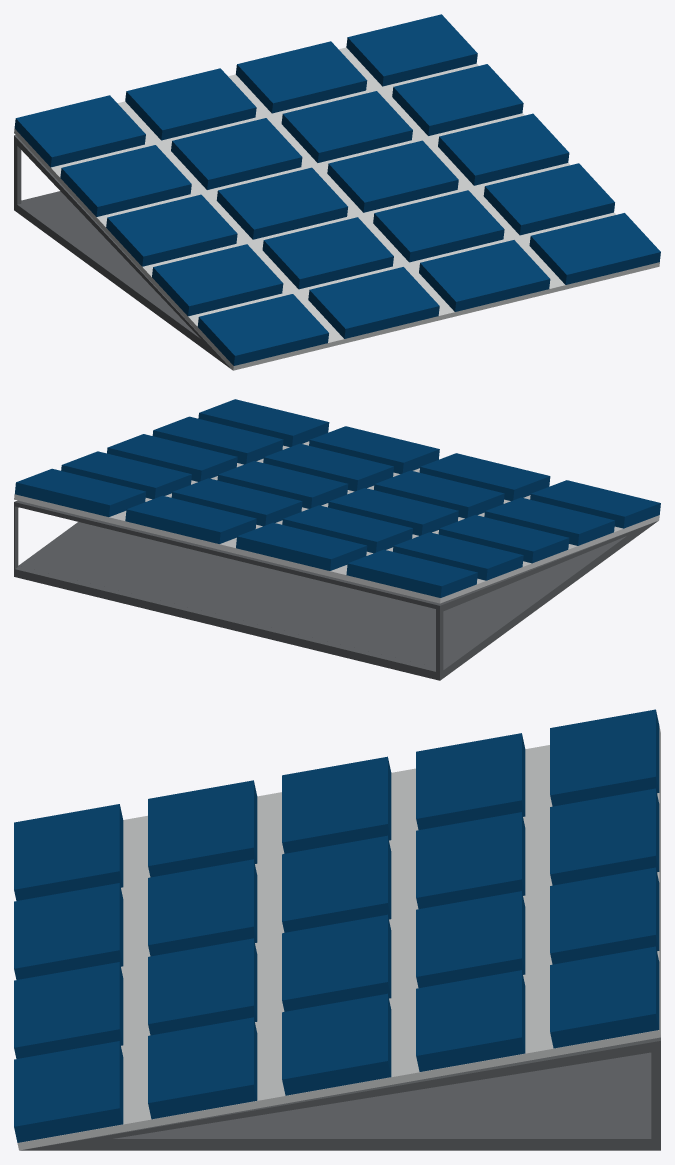
File: Solar Panel 5x4 small.glb
3 renders of one model, top to bottom at view 1: azimuth 30°, elevation 25°; view 2: azimuth 150°, elevation 25°; view 3: azimuth 270°, elevation 25°, orthographic. The views are drawn at different scales.
Visible parts, largest first — view 1: Mesh_Mesh_head_geo.001_lambert2SG.001; view 2: Mesh_Mesh_head_geo.001_lambert2SG.001; view 3: Mesh_Mesh_head_geo.001_lambert2SG.001.
Boxes of the visible parts, bbox=[...] form: Mesh_Mesh_head_geo.001_lambert2SG.001: bbox=[14, 14, 660, 370]; Mesh_Mesh_head_geo.001_lambert2SG.001: bbox=[14, 399, 660, 680]; Mesh_Mesh_head_geo.001_lambert2SG.001: bbox=[14, 709, 660, 1150].
Size of the model in its own units: 119 by 24.9 by 107.
